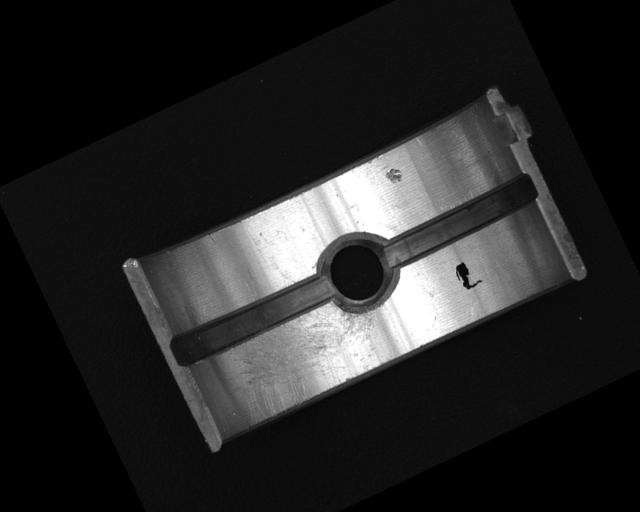blot: (450, 257, 484, 293)
bruise: (382, 165, 404, 187)
gap: (165, 264, 338, 373), (376, 172, 540, 272)
hole: (309, 222, 407, 323)
scratch: (207, 287, 395, 432)
